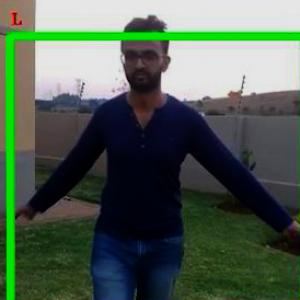land: (5, 29, 299, 299)
